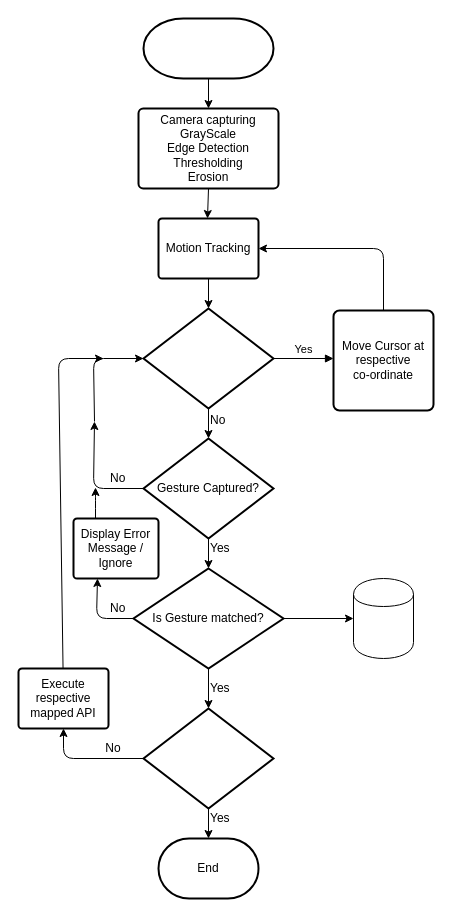
Some shapes in this 451 by 916 pixel diagram are drawn without their labels. The shapes that lost their labels are listed below. From the top down, each one's centre as x and y in pixels, then its label:
At (208,48): "Start".
At (208,358): "Motion Detected?".
At (383,618): "Data".
At (208,758): "Is it termination Gesture?".
